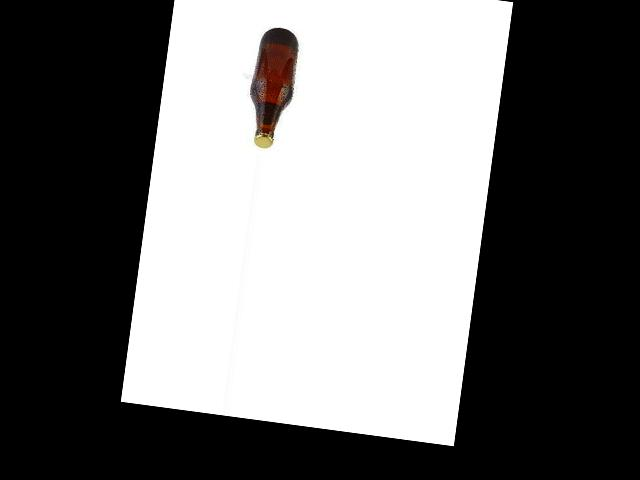beer: (245, 26, 299, 150)
